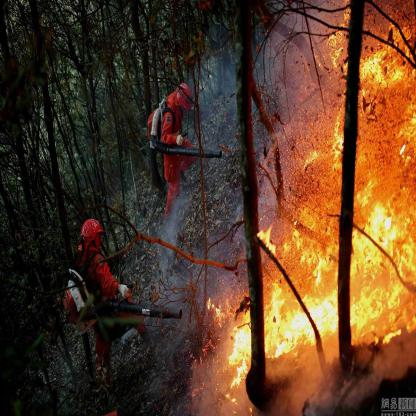fire: (260, 54, 416, 364), (211, 294, 251, 389)
